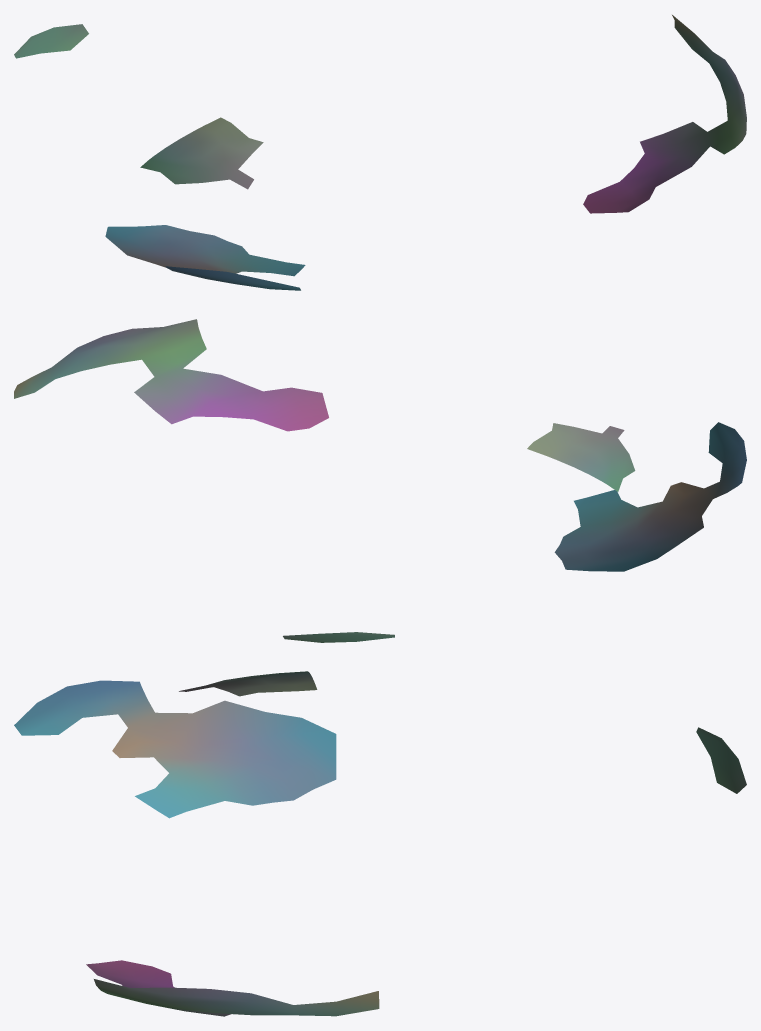
File: space-galaxies-irregular-galaxy_v12.glb
The picture shows the model from 3 angles, top to bottom: view 1: azimuth 30°, elevation 25°; view 2: azimuth 150°, elevation 25°; view 3: azimuth 270°, elevation 25°; orthographic projection. The views are drawn at different scales.
Parts seen in each view (by area): view 1: Irregular Galaxy_v12; view 2: Irregular Galaxy_v12; view 3: Irregular Galaxy_v12.
Part boxes in pixels (bbox=[...]): Irregular Galaxy_v12: bbox=[14, 15, 746, 290]; Irregular Galaxy_v12: bbox=[14, 319, 746, 642]; Irregular Galaxy_v12: bbox=[14, 671, 746, 1016].
Size of the model in its own units: 0.5 by 0.0822 by 0.4556.
